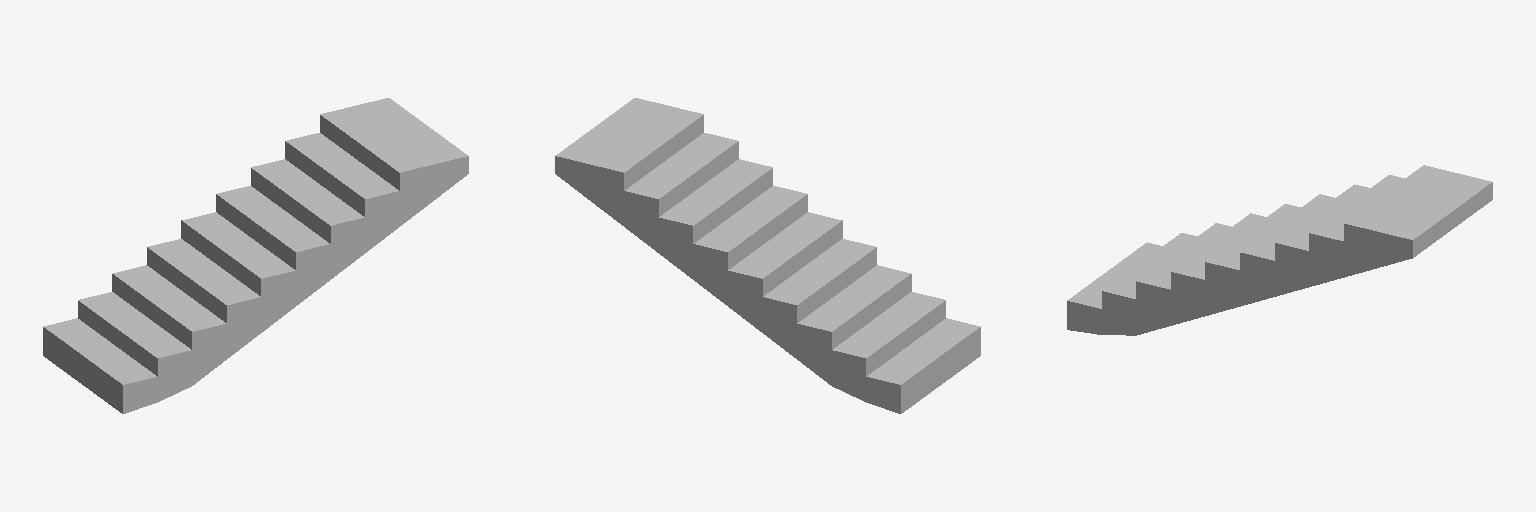
File: Stairs (89).obj
The picture shows the model from 3 angles: view 1: azimuth 30°, elevation 25°; view 2: azimuth 150°, elevation 25°; view 3: azimuth 330°, elevation 25°; orthographic projection.
Visible parts, largest first — view 1: Stairs (89); view 2: Stairs (89); view 3: Stairs (89).
Part boxes in pixels (x1,y1,x2,y2): Stairs (89): (43,98,468,413); Stairs (89): (555,98,980,413); Stairs (89): (1067,165,1492,335).
Size of the model in its own units: 5 by 2.41 by 2.